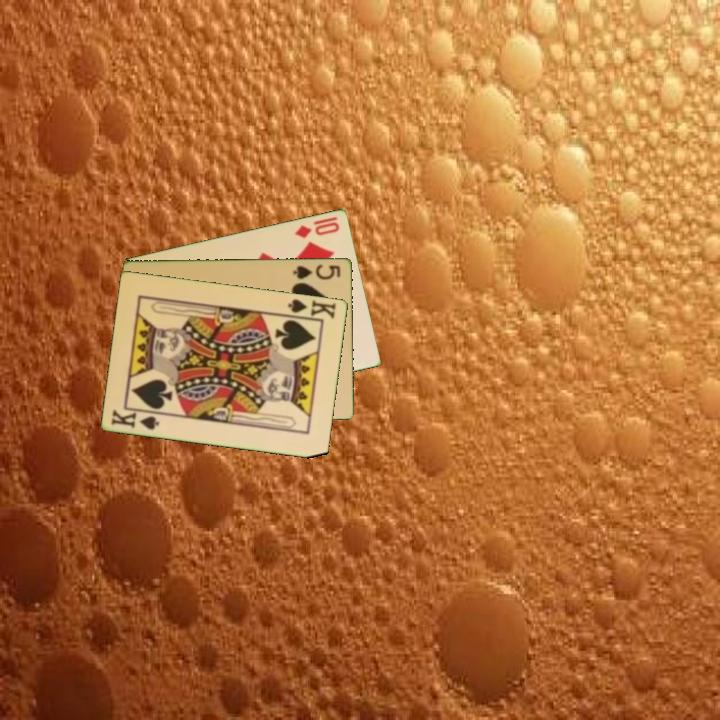10d: (291, 213, 342, 241)
5s: (290, 261, 343, 282)
Ks: (108, 406, 162, 433), (284, 295, 339, 321)
